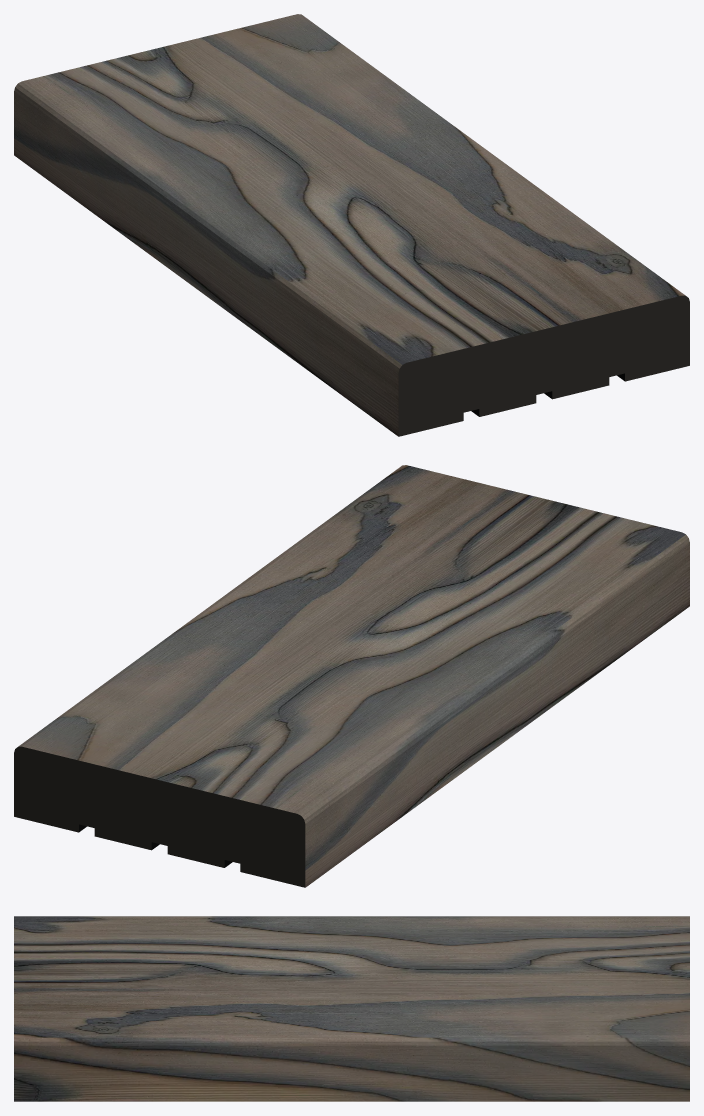
The model's file is larch-terrace-rectangular-latte.glb.
3 views of the same model, one above another, from view 1: azimuth 30°, elevation 25°; view 2: azimuth 150°, elevation 25°; view 3: azimuth 270°, elevation 25° (orthographic). The views are drawn at different scales.
Parts seen in each view (by area): view 1: Staciakampis; view 2: Staciakampis; view 3: Staciakampis.
Part boxes in pixels (<box>): Staciakampis: <box>14,14,689,436</box>; Staciakampis: <box>14,465,689,887</box>; Staciakampis: <box>14,916,689,1101</box>.
Size of the model in its own units: 0.0733 by 0.0173 by 0.1675.
Materials: 3 (1 with a texture image).
